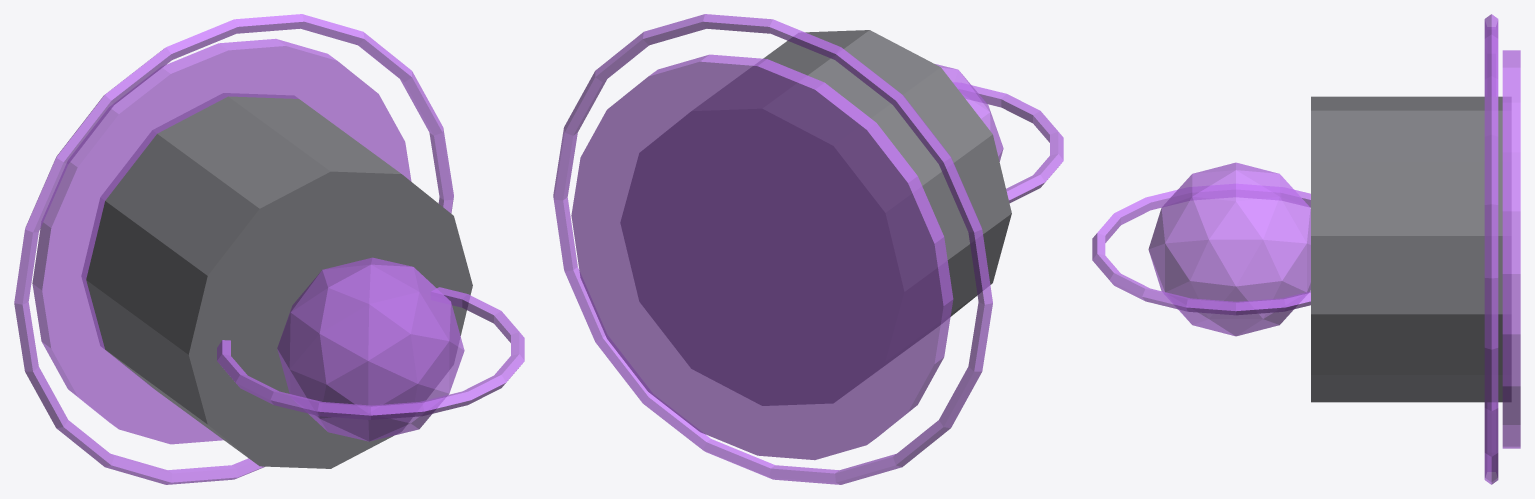
File: 12_final_relic_display.glb
3 views of the same model, side by side, from view 1: azimuth 30°, elevation 25°; view 2: azimuth 150°, elevation 25°; view 3: azimuth 270°, elevation 25° (orthographic). The views are drawn at different scales.
Parts seen in each view (by area): view 1: pedestal, base_disc, story_core, base_ring, halo; view 2: base_disc, pedestal, base_ring, halo, story_core; view 3: pedestal, story_core, base_disc, base_ring, halo.
Part boxes in pixels (x1,y1,x2,y2): pedestal: [82, 93, 472, 468]; base_disc: [32, 38, 411, 444]; story_core: [277, 257, 464, 441]; base_ring: [14, 14, 453, 484]; halo: [217, 287, 524, 419]; base_disc: [571, 54, 953, 460]; pedestal: [621, 30, 1011, 405]; base_ring: [553, 14, 992, 484]; halo: [953, 82, 1063, 202]; story_core: [935, 64, 1003, 161]; pedestal: [1311, 96, 1510, 402]; story_core: [1148, 162, 1310, 336]; base_disc: [1502, 50, 1520, 448]; base_ring: [1484, 14, 1498, 484]; halo: [1092, 184, 1310, 315].
Size of the model in its own units: 1.3 by 1.3 by 1.17.
